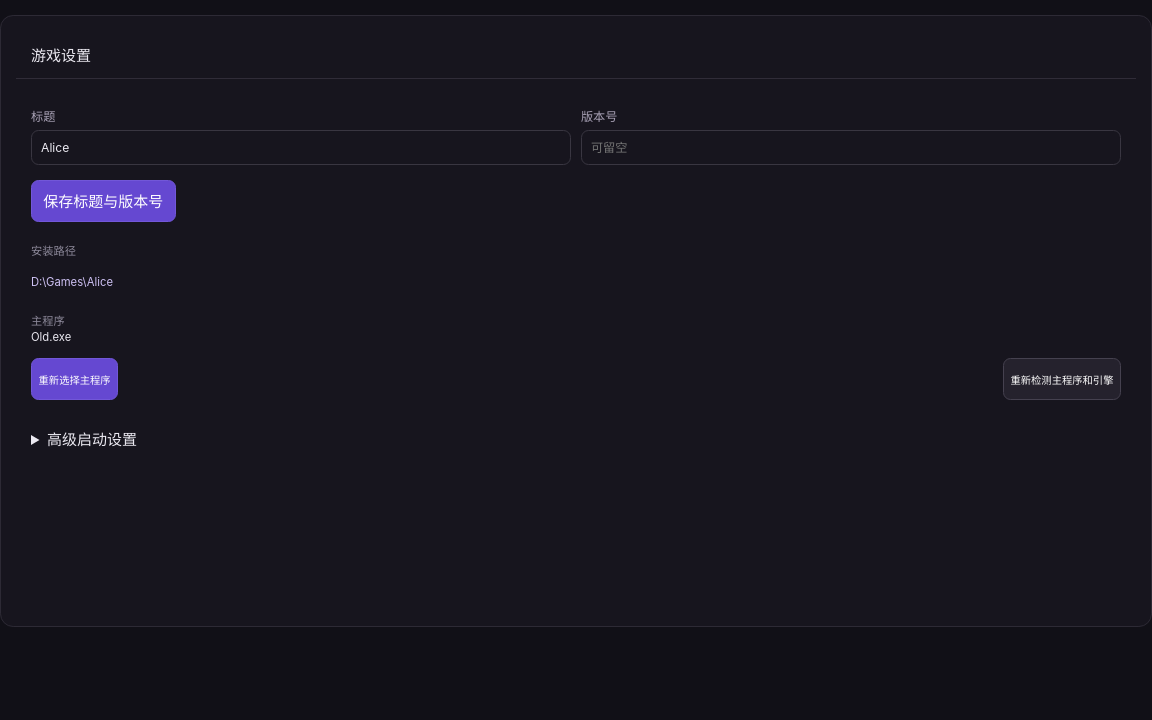
Scenario: GameSettingsPanel › keeps the old game when reanalysis is failed
The width and height of the screenshot is (1152, 720).
Click the button with test id "reanalyze-game" at (1062, 379), box x1=1003 y1=358 x2=1121 y2=400
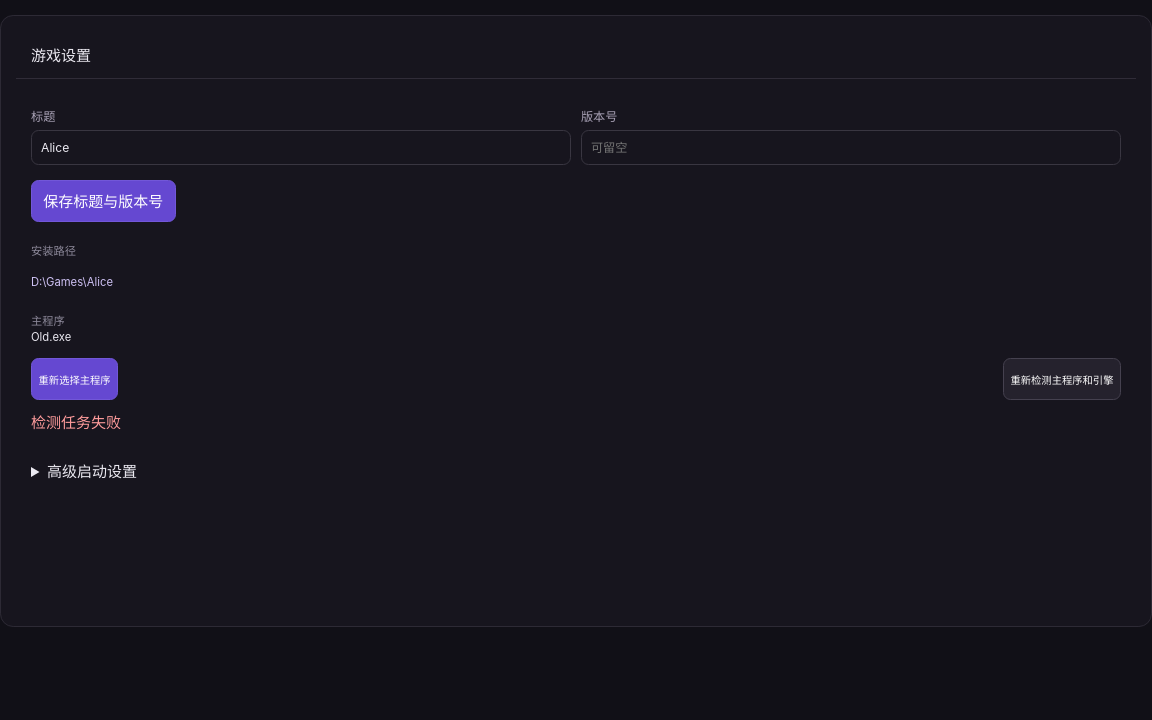
Expected: the text "Old.exe" is shown, x1=31 y1=330 x2=71 y2=344
Result: the message with test id "reanalysis-error" reads "检测任务失败" at x1=31 y1=413 x2=121 y2=432
